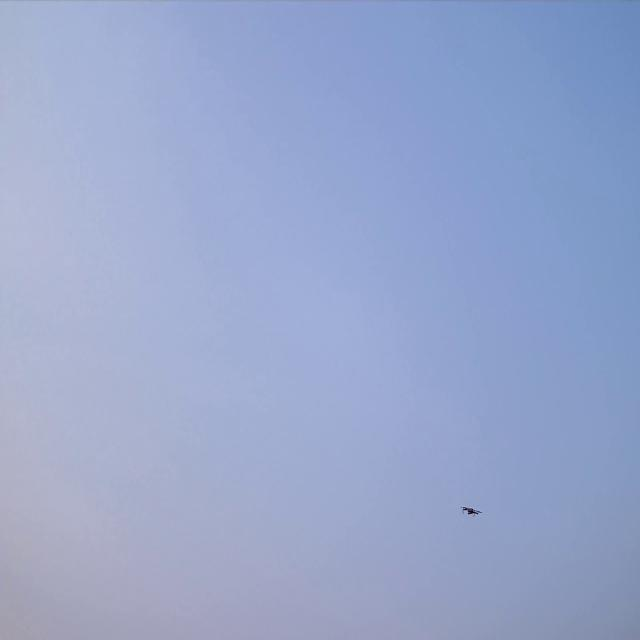UAV: (463, 507, 479, 516)
